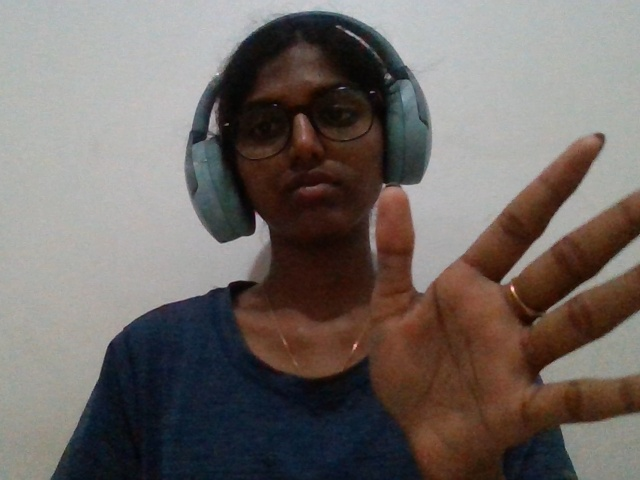Bye: (297, 113, 640, 476)
